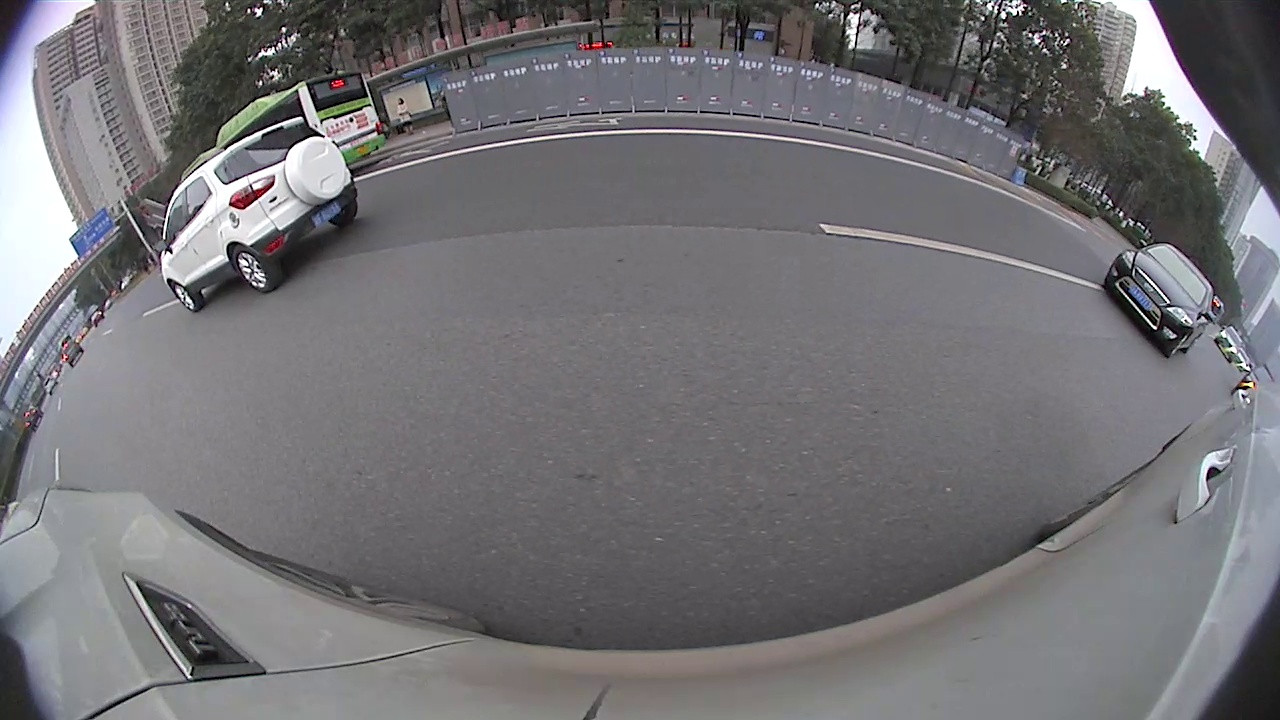bus: (180, 68, 386, 184)
car: (158, 117, 359, 314), (1101, 243, 1216, 360), (1215, 326, 1246, 365)
front: (168, 281, 205, 312), (1167, 334, 1190, 357)
rear: (232, 246, 288, 290)
